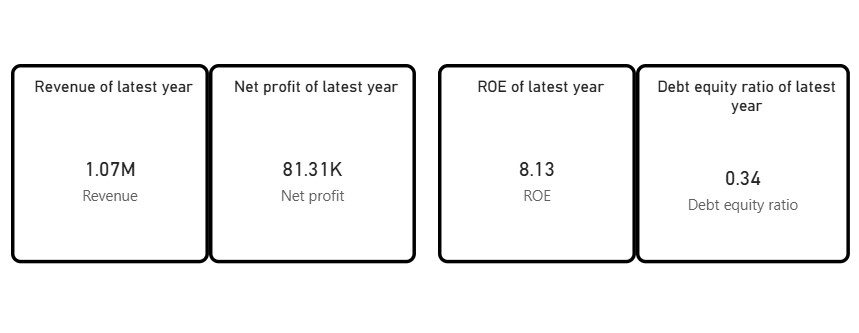

The page's visual inventory and layout, read from the dashboard file:
{"tool":"powerbi","page":{"name":"financial_kpis","canvas":[1280,720],"ordinal":0},"visuals":[{"type":"card","title":"Net profit of latest year","fields":{"Values":["Sum(public financial_kpis.net_profit)"]},"box":[319.7,194.4,298.1,286.6],"z":0},{"type":"card","title":"Debt equity ratio of latest year","fields":{"Values":["Sum(public financial_kpis.debt_equity_ratio)"]},"box":[934.6,194.4,308.2,286.6],"z":1000},{"type":"card","title":"Revenue of latest year","fields":{"Values":["Sum(public financial_kpis.revenue)"]},"box":[34.6,194.4,285.1,286.6],"z":2000},{"type":"card","title":"ROE of latest year","fields":{"Values":["Sum(public financial_kpis.roe_pct)"]},"box":[649.4,194.4,285.1,286.6],"z":3000}]}

Visuals, with their boxes on the page's 1280x720 design canvas (x1, y1, x2, y2). These are canvas units, not pixel positions in the 859x333 screenshot, which may show the page scaled, cropped or inside an application window:
"Net profit of latest year" card: pyautogui.locateOnScreen(320, 194, 618, 481)
"Debt equity ratio of latest year" card: pyautogui.locateOnScreen(935, 194, 1243, 481)
"Revenue of latest year" card: pyautogui.locateOnScreen(35, 194, 320, 481)
"ROE of latest year" card: pyautogui.locateOnScreen(649, 194, 934, 481)
